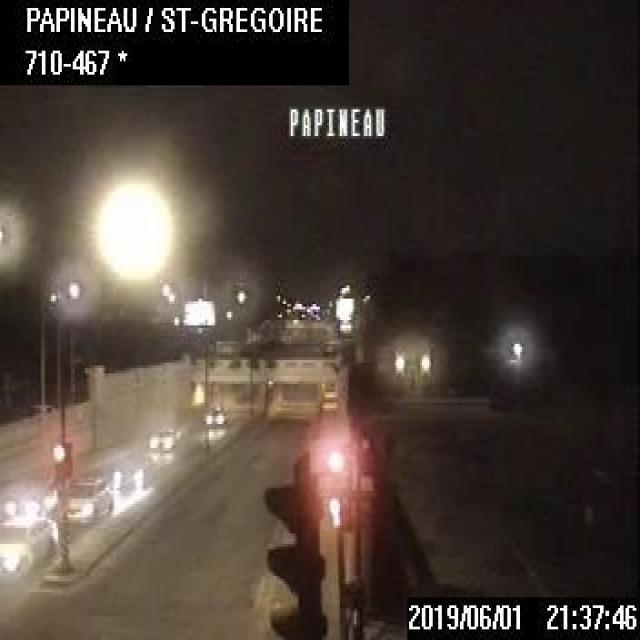vehicle: (0, 516, 60, 577), (60, 472, 115, 522), (0, 477, 60, 520), (149, 423, 178, 448), (204, 400, 227, 424)
